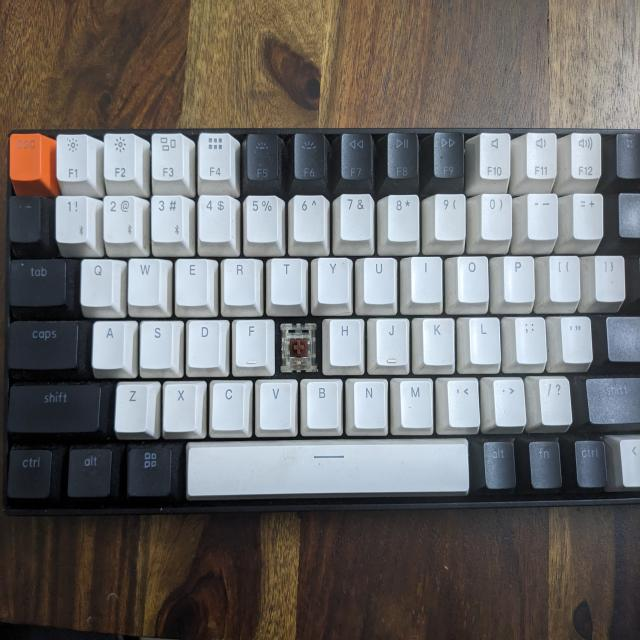C: (279, 322, 319, 375)
